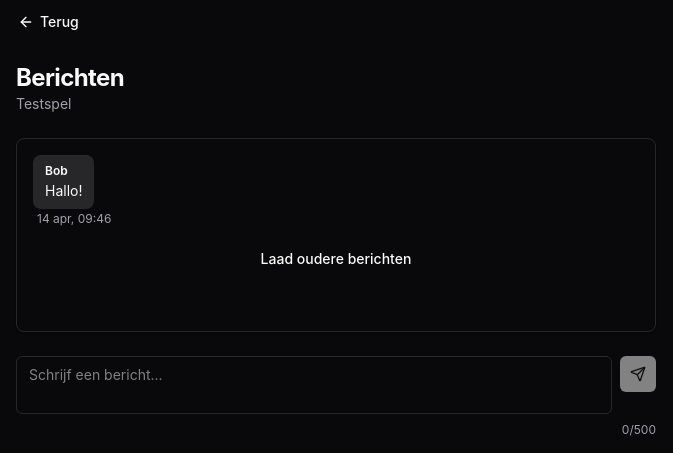
Scenario: MessageBoardPage › loads older messages when "load older" is clicked
This screenshot has width=673, height=453.
What coordinates should you click on to do the following:
click the button "Laad oudere berichten"
I would click on:
 (336, 259)
Its box is [249,243,423,275].
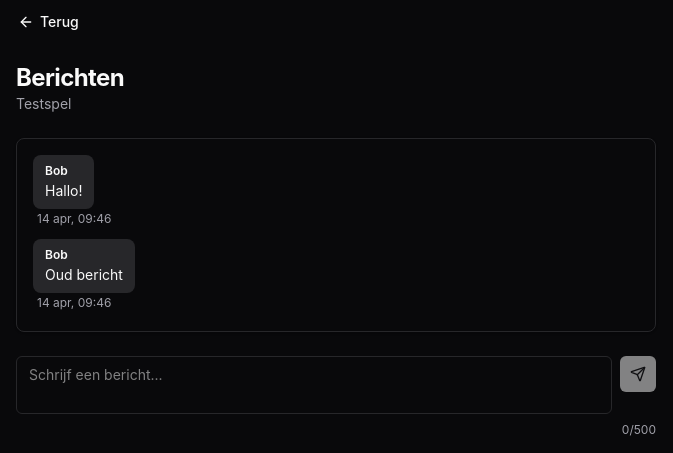
Expected: the text "Oud bericht" is shown, [45,265,123,285]
Expected: the button "Laad oudere berichten" is gone
